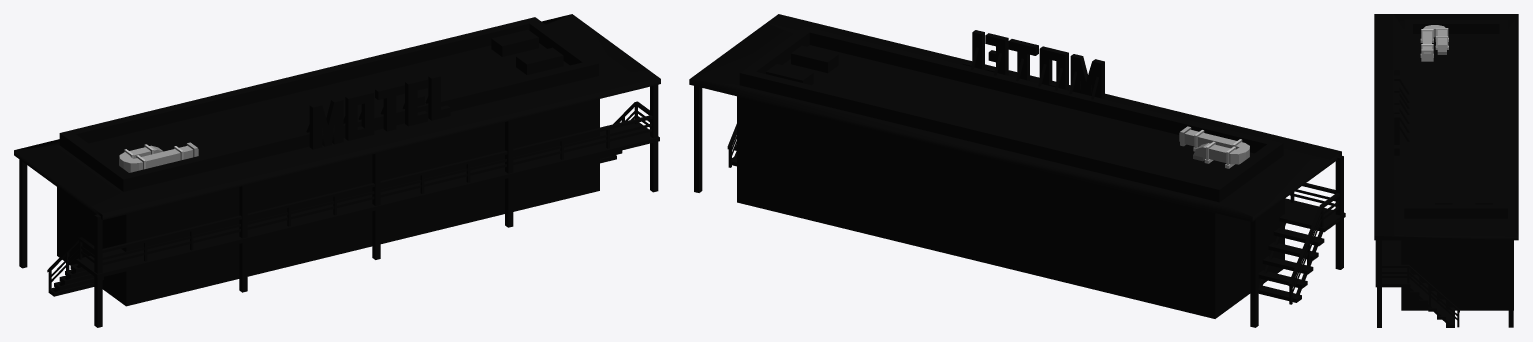
File: SA_Bld_Motel_01.gltf
The picture shows the model from 3 angles, left to right: view 1: azimuth 30°, elevation 25°; view 2: azimuth 150°, elevation 25°; view 3: azimuth 270°, elevation 25°; orthographic projection. The views are drawn at different scales.
Visible parts, largest first — view 1: SA_Bld_Motel_01; view 2: SA_Bld_Motel_01; view 3: SA_Bld_Motel_01.
Boxes of the visible parts, box(x1,y1,x2,y2) form: SA_Bld_Motel_01: box(14, 14, 660, 327); SA_Bld_Motel_01: box(689, 14, 1345, 327); SA_Bld_Motel_01: box(1374, 14, 1518, 327).
Bounding box in the file's own units: 41.93 × 11.2 × 11.42.
Materials: 1 (1 with a texture image).
